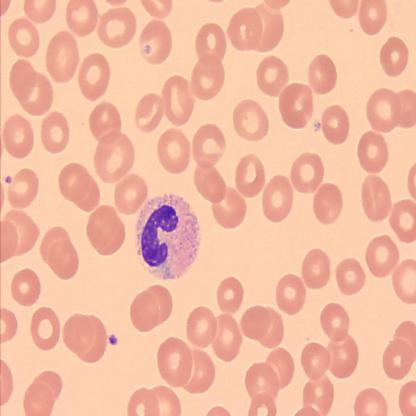Band Neutrophil: (132, 190, 201, 283)
